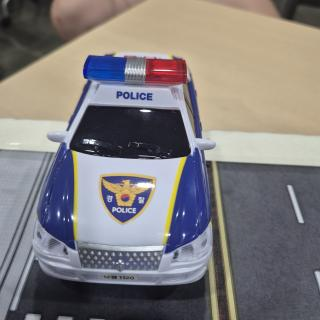Police_car: (33, 55, 215, 285)
